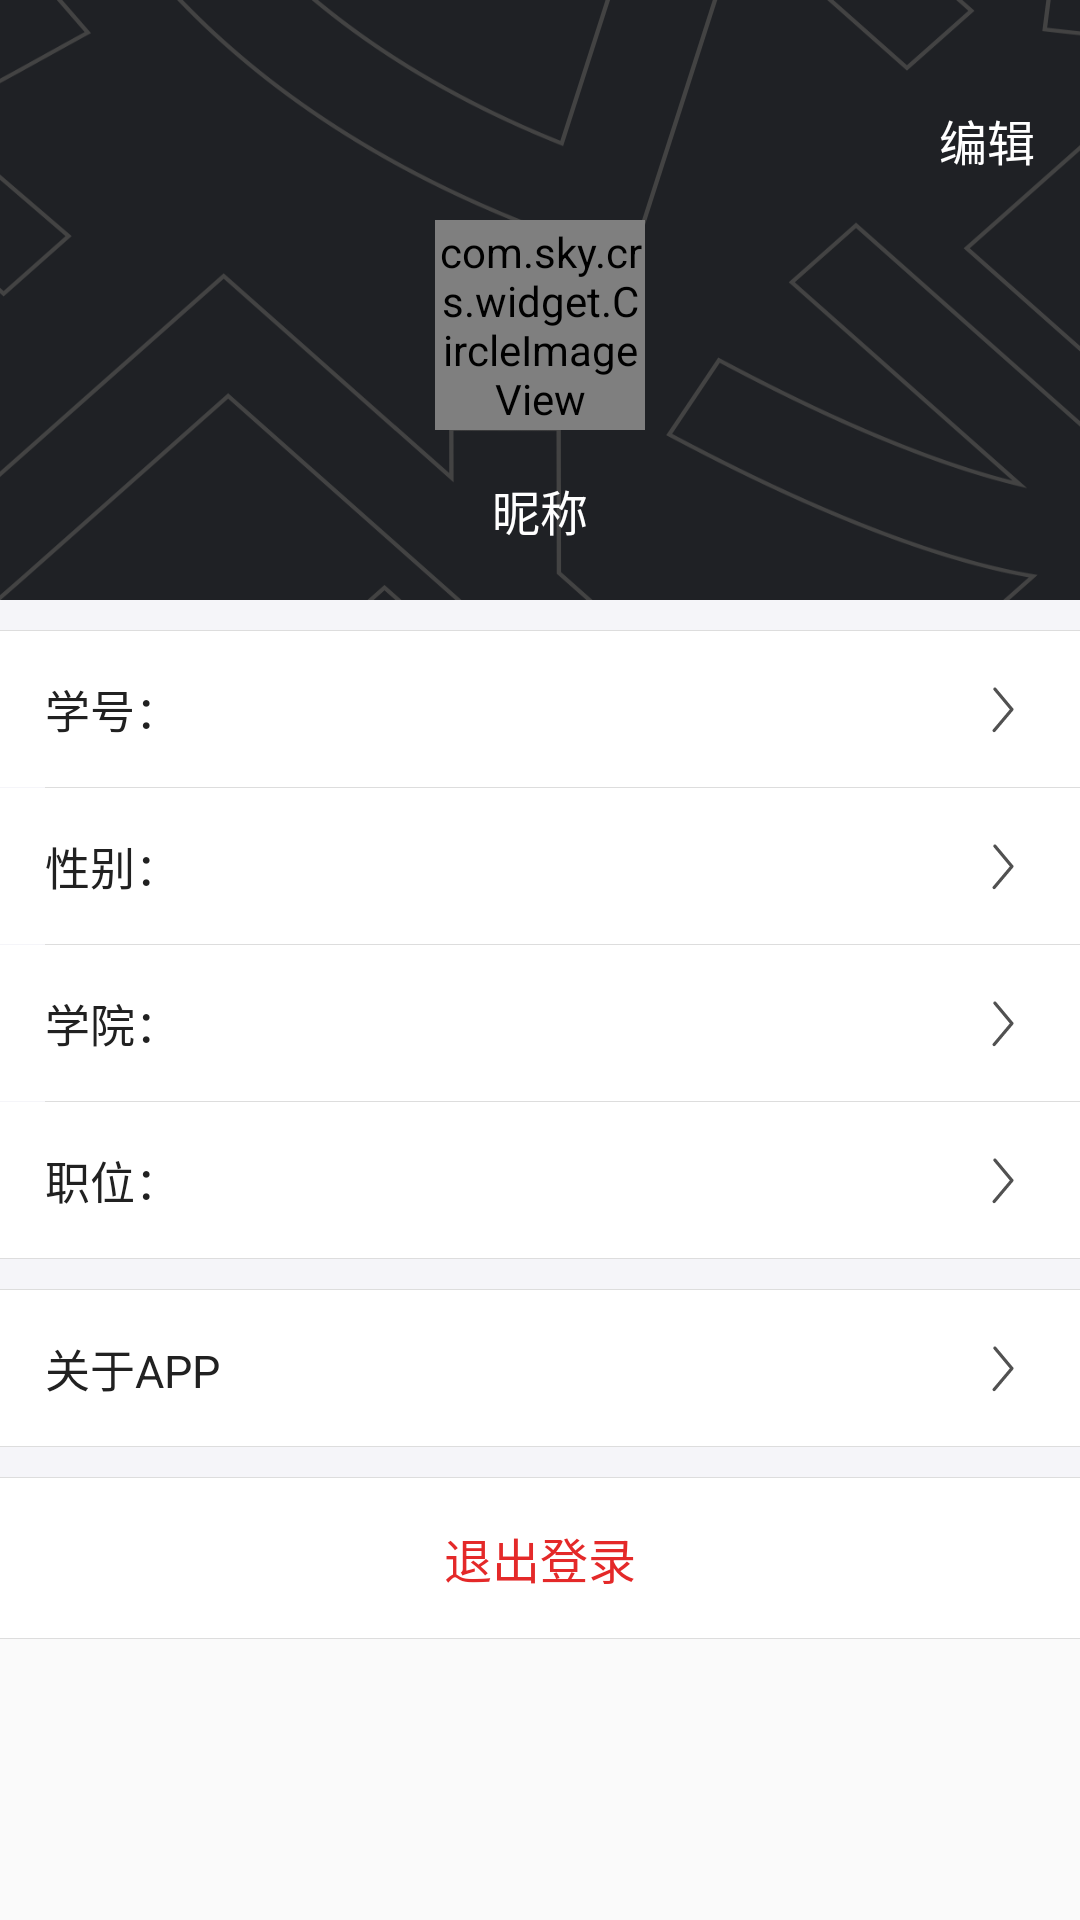

Icons on this 1080 × 1920 Android screen, each with the point to tap as point (x, y):
arrow right: point (1003, 709), point (1003, 866), point (1003, 1023), point (1003, 1180), point (1003, 1368)
